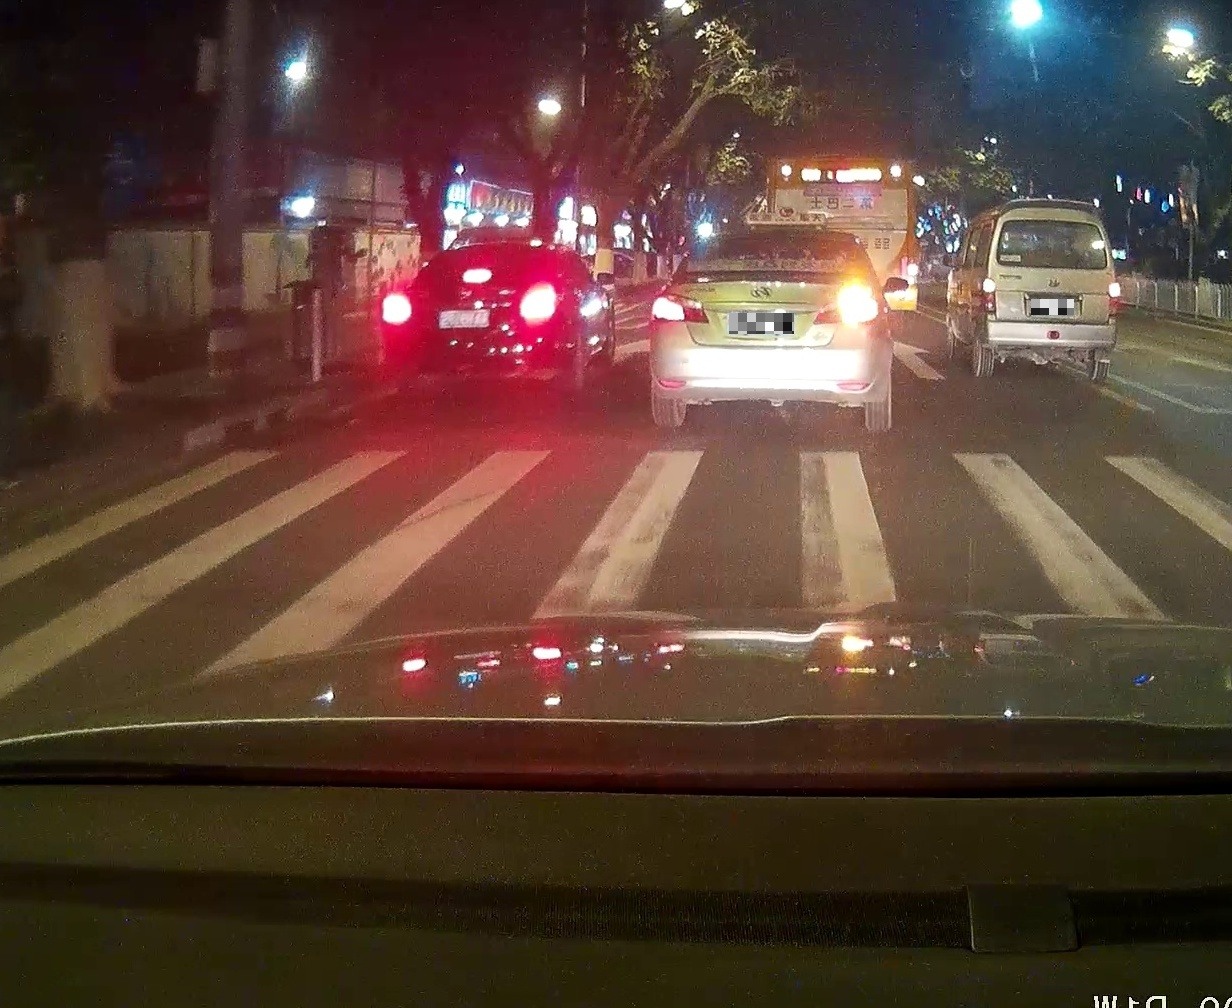L_light: (651, 292, 710, 324), (380, 293, 413, 326), (982, 278, 996, 315)
R_light: (813, 293, 889, 325), (518, 282, 559, 327), (1108, 282, 1121, 317)
T_light: (461, 268, 493, 283), (1049, 221, 1070, 227), (763, 237, 786, 242)
night-brake: (378, 239, 578, 411)
night-no: (975, 207, 1121, 383)
night-right: (648, 228, 891, 433)
plate_1: (729, 313, 794, 334)
plate_2: (1031, 299, 1074, 315)
